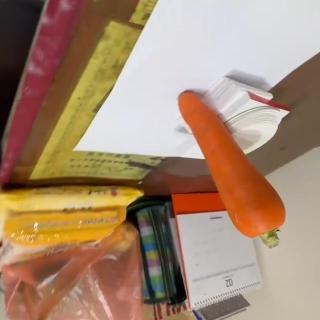carrot: (176, 88, 288, 250)
